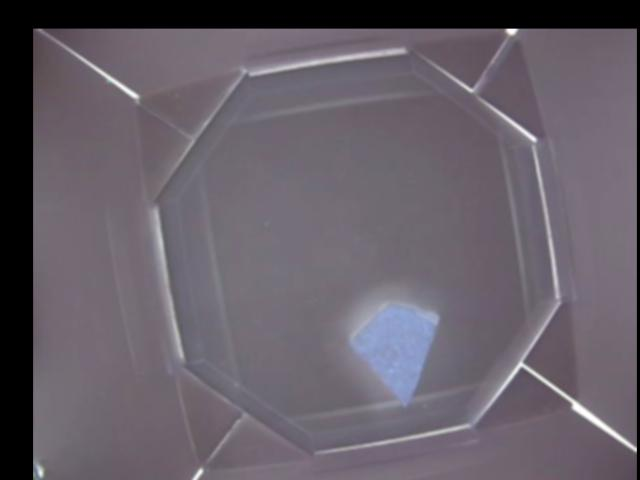China: (350, 300, 439, 410)
